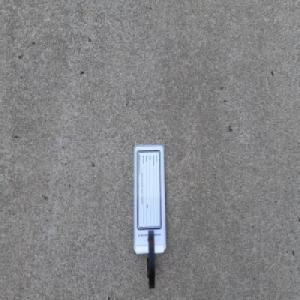LuggageTag: (132, 143, 166, 291)
